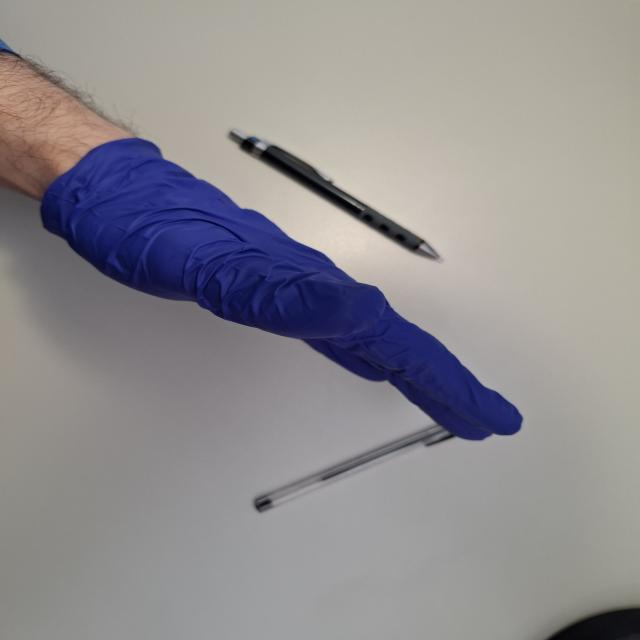glove_on: (34, 133, 530, 444)
